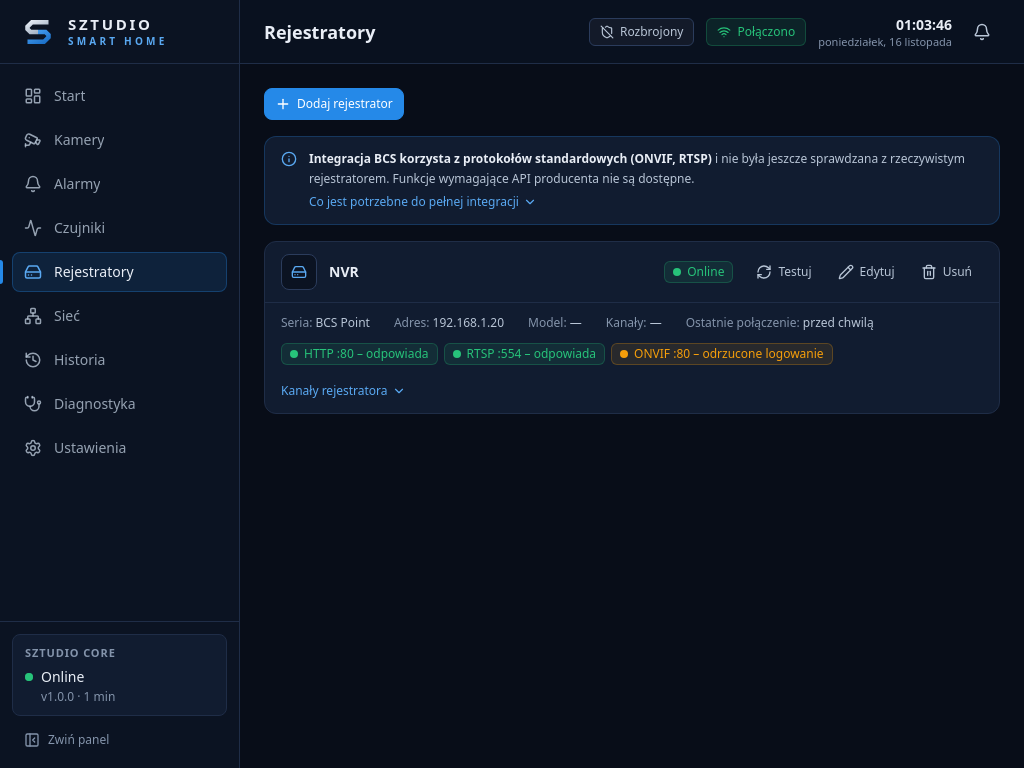
Test case: rejestratory › pokazuje stan protokołów, uczciwą informację o integracji i dodaje kanały jako kamery
Expected: the text "ONVIF :80 – odrzucone logowanie" is shown, [634,346,824,362]
Click the button "Co jest potrzebne do pełnej integracji" at {"x": 423, "y": 202}, box [309,192,537,212]
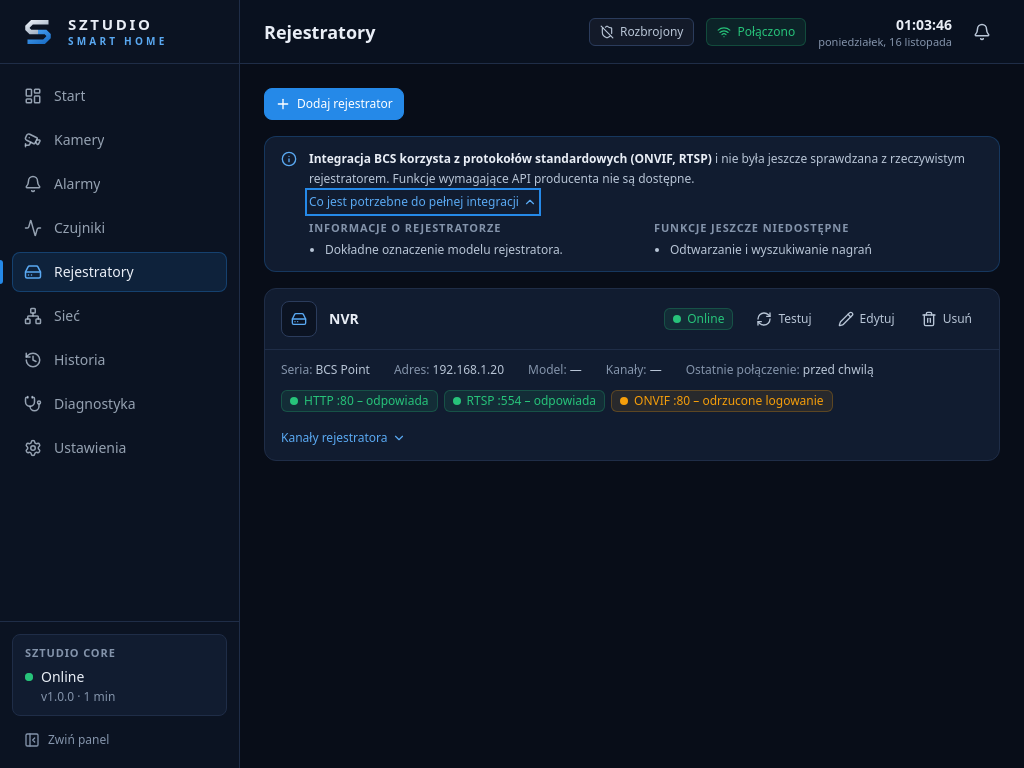
Expected: the list item "Dokładne oznaczenie modelu rejestratora." is shown, [325,240,563,258]
Click the button "Kanały rejestratora" at {"x": 343, "y": 438}, box [281,430,406,446]
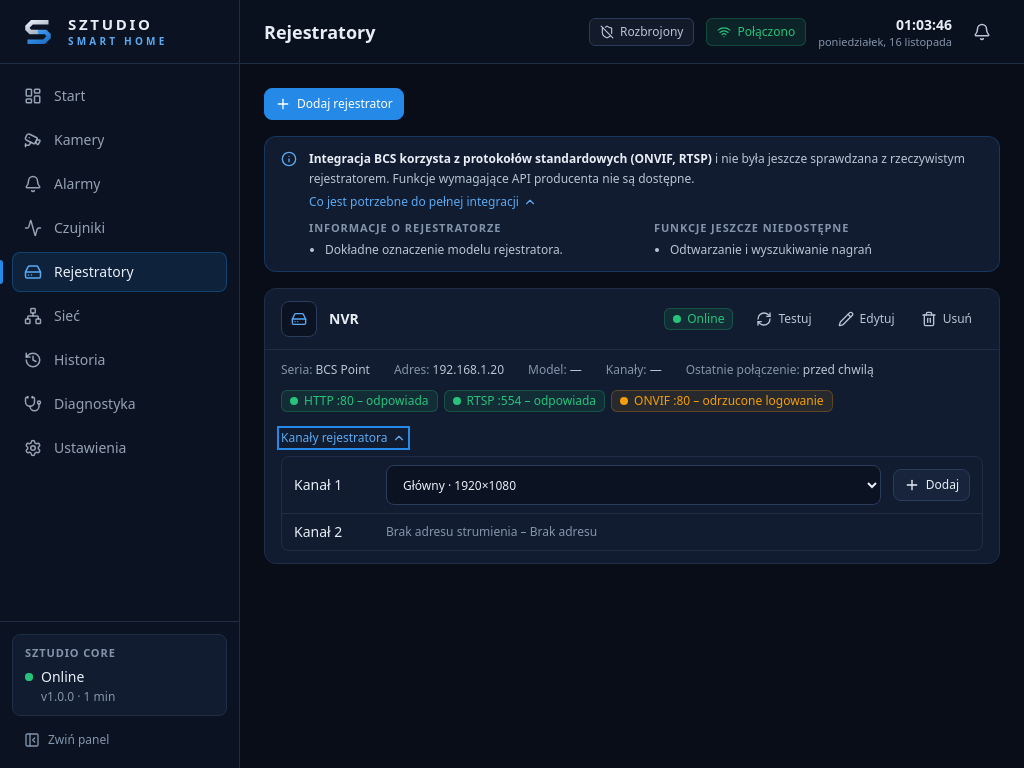
Expected: the text "Brak adresu strumienia – Brak adresu" is shown, [386,524,597,540]
Select "Pomocniczy" in the dropdown named "Profil kanału 1" at {"x": 633, "y": 485}, box [386,465,881,505]
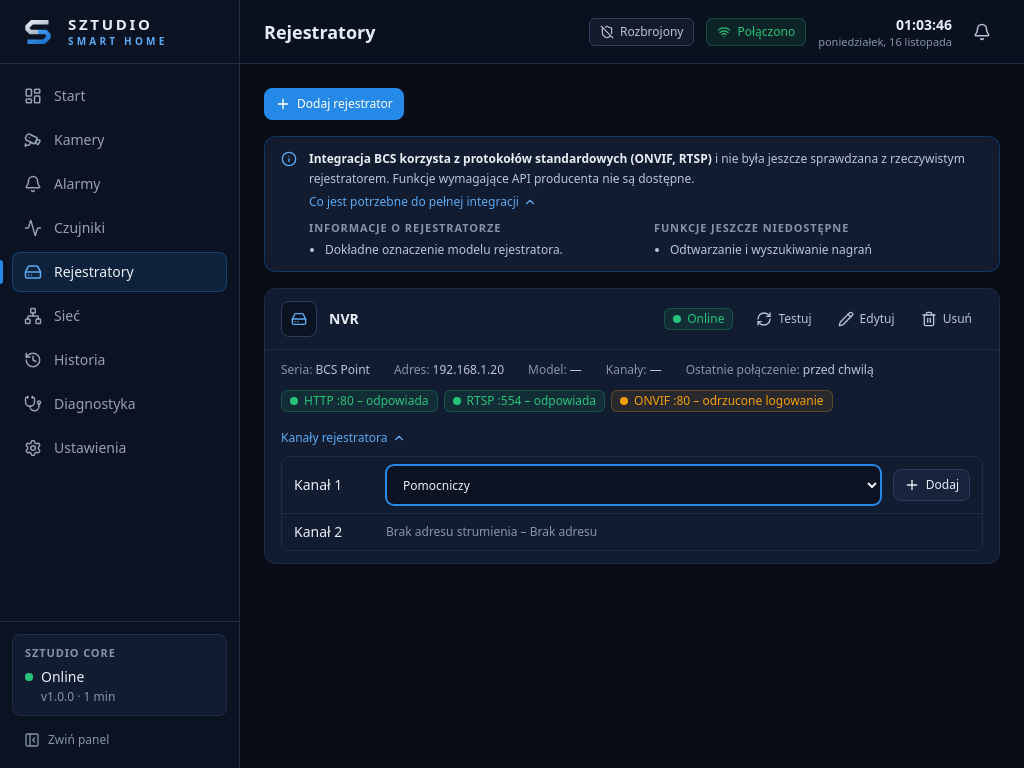
Click the button "Dodaj" at {"x": 931, "y": 485}, box [893,469,970,501]
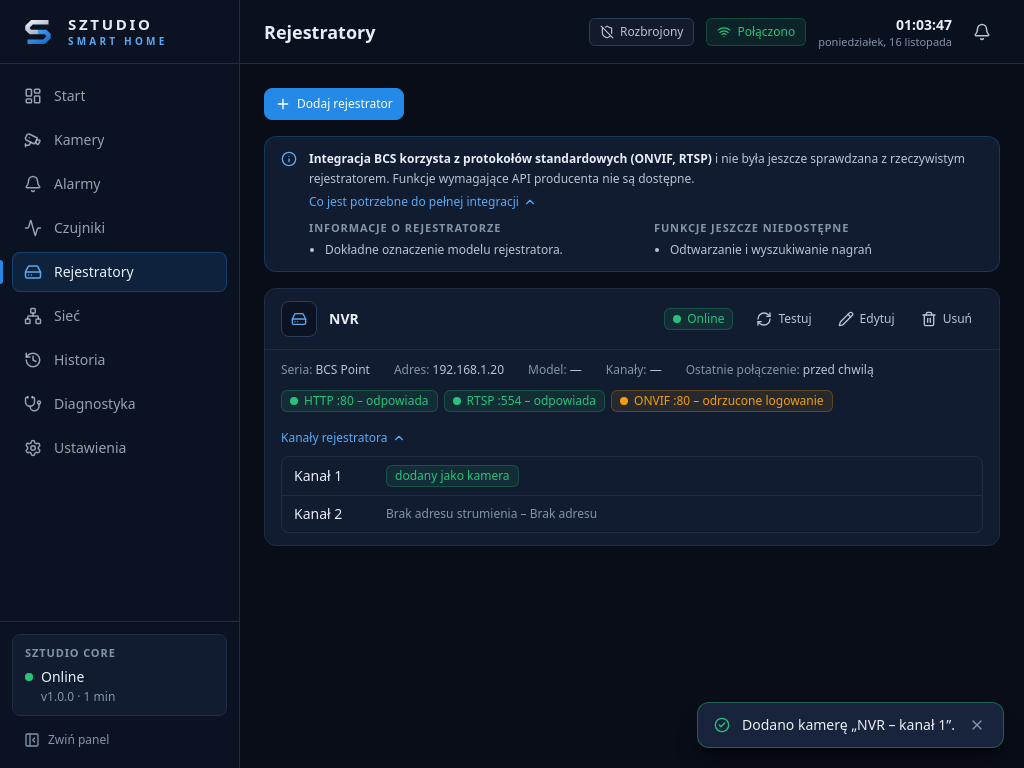
Expected: the text "Dodano kamerę „NVR – kanał 1”." is shown, [742,715,955,735]
Expected: the text "dodany jako kamera" is shown, [386,465,519,487]
